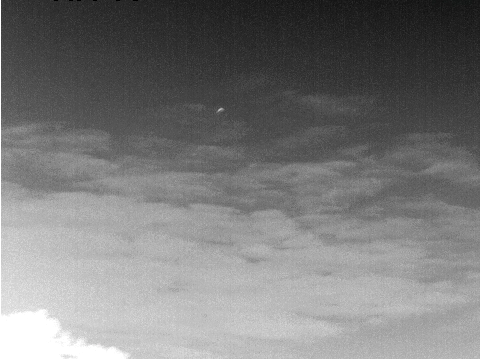dim target: (216, 107, 225, 113)
